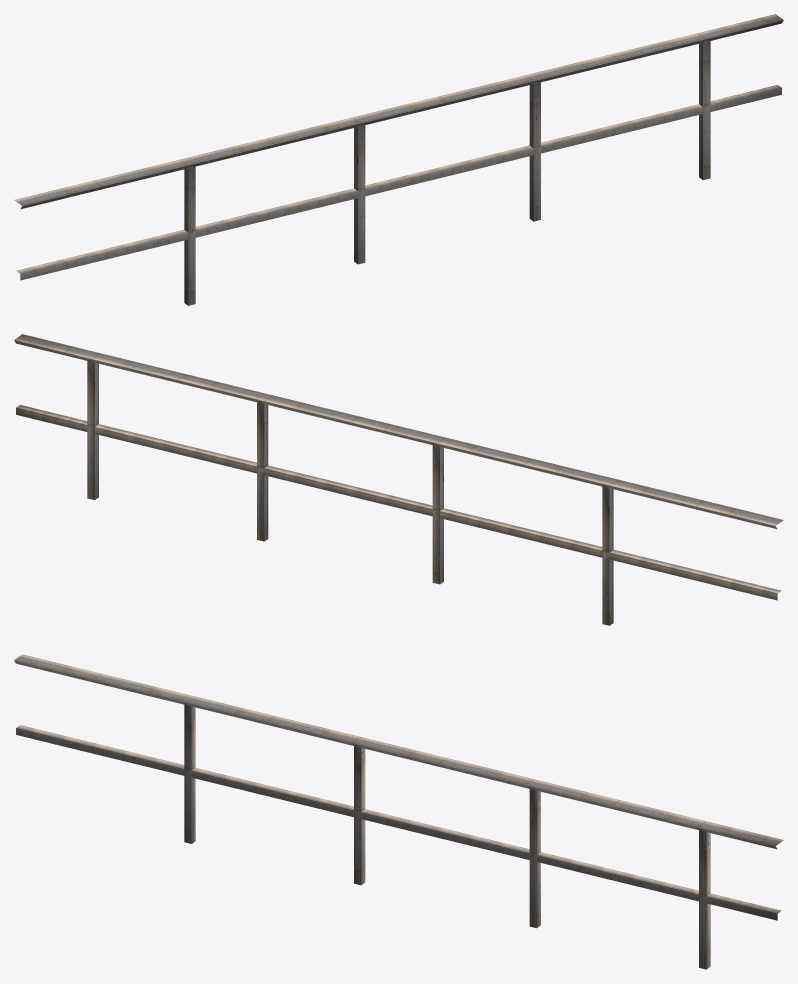
File: M11B_Railing07.glb
The picture shows the model from 3 angles, top to bottom: view 1: azimuth 30°, elevation 25°; view 2: azimuth 150°, elevation 25°; view 3: azimuth 330°, elevation 25°; orthographic projection.
Visible parts, largest first — view 1: M11B_RAILING07; view 2: M11B_RAILING07; view 3: M11B_RAILING07.
Boxes of the visible parts, bbox=[...] form: M11B_RAILING07: bbox=[14, 14, 783, 305]; M11B_RAILING07: bbox=[14, 334, 783, 625]; M11B_RAILING07: bbox=[14, 654, 783, 969].
Size of the model in its own units: 6.55 by 1.17 by 0.124.
1 material, 1 textured.
